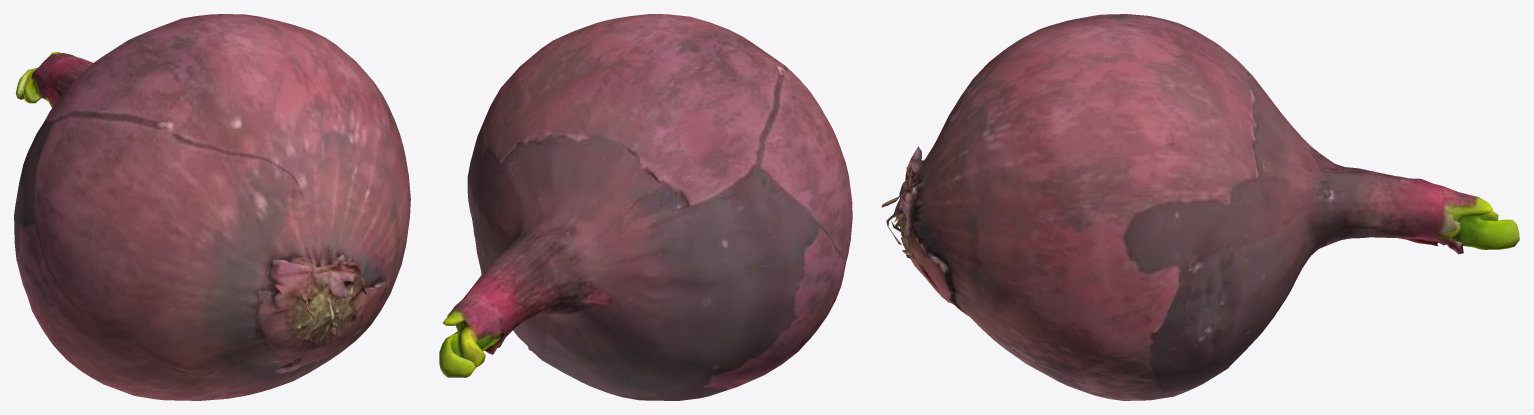
The model's file is onion.glb.
3 views of the same model, side by side, from view 1: azimuth 30°, elevation 25°; view 2: azimuth 150°, elevation 25°; view 3: azimuth 270°, elevation 25° (orthographic). The views are drawn at different scales.
Parts seen in each view (by area): view 1: sm_food_produce_onion_c01_01; view 2: sm_food_produce_onion_c01_01; view 3: sm_food_produce_onion_c01_01.
Part boxes in pixels (box(x1,y1,x2,y2)): sm_food_produce_onion_c01_01: box(14, 14, 410, 400); sm_food_produce_onion_c01_01: box(439, 14, 852, 400); sm_food_produce_onion_c01_01: box(881, 14, 1519, 400).
Size of the model in its own units: 0.0742 by 0.0721 by 0.1187.
1 material, 1 textured.
